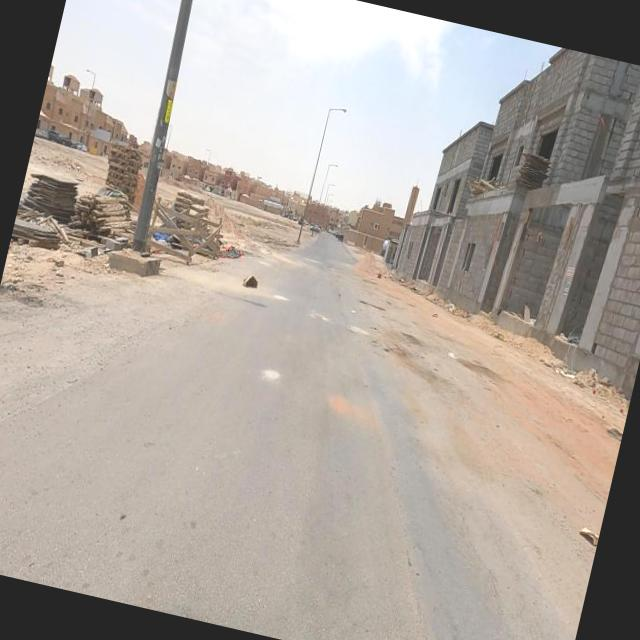debris: (34, 195, 152, 307), (117, 178, 215, 285), (182, 204, 270, 298), (210, 241, 278, 327)
